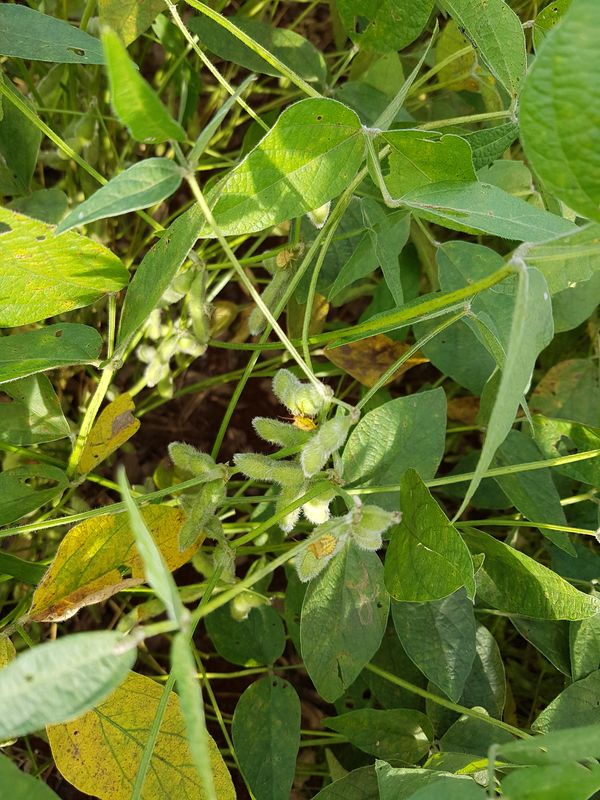Euschistus_heros_ninfa: (289, 525, 340, 570), (277, 403, 324, 440), (271, 244, 303, 275)
